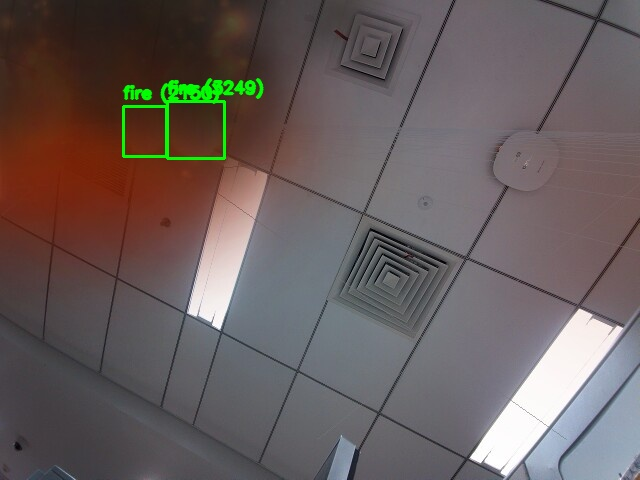fire: (167, 101, 224, 158), (123, 106, 166, 156)
